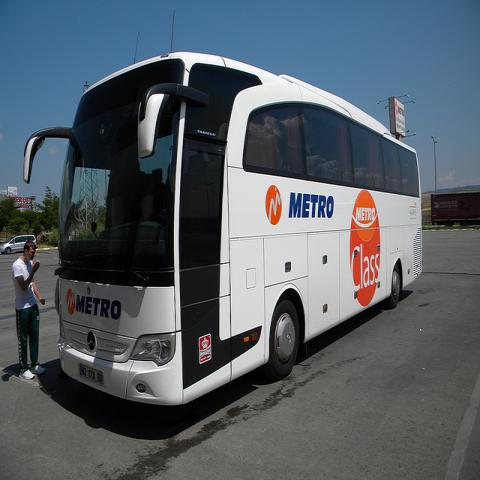bus: (24, 52, 424, 406)
car: (0, 234, 38, 254)
